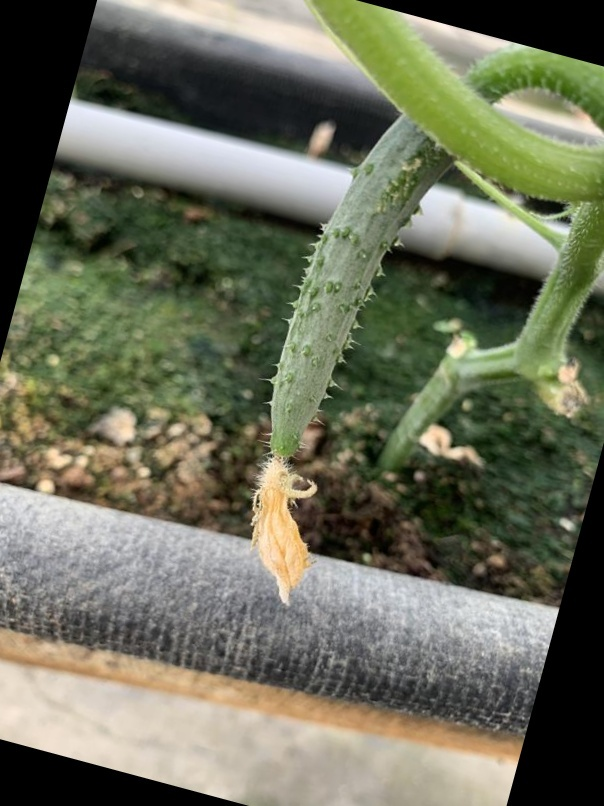bear: (194, 158, 429, 613)
growth: (213, 113, 461, 583)
